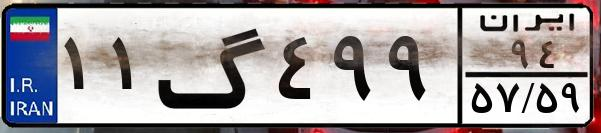1: (57, 26, 110, 100), (110, 28, 156, 98)
4: (270, 28, 330, 110), (537, 27, 568, 80)
5: (470, 70, 495, 125), (535, 70, 560, 125)
7: (495, 70, 520, 125)
9: (385, 28, 445, 110), (330, 28, 385, 110), (560, 70, 590, 125), (508, 27, 537, 80)
گ: (156, 12, 270, 120)
